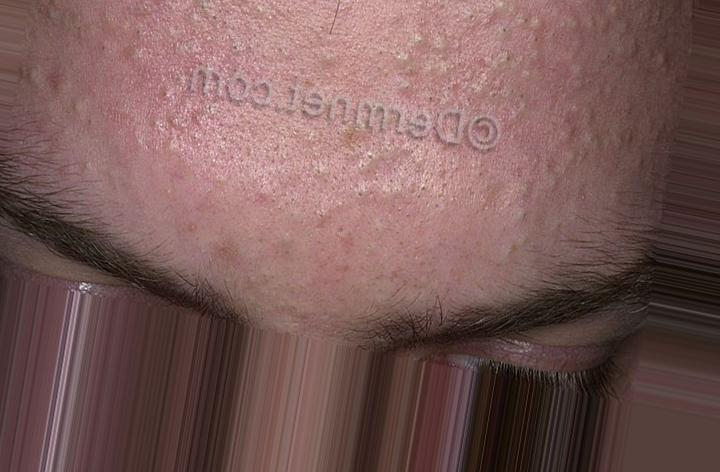Acne: (555, 105, 664, 233), (376, 29, 487, 114), (298, 143, 387, 244), (21, 57, 106, 143), (155, 49, 216, 155), (576, 0, 631, 72)
